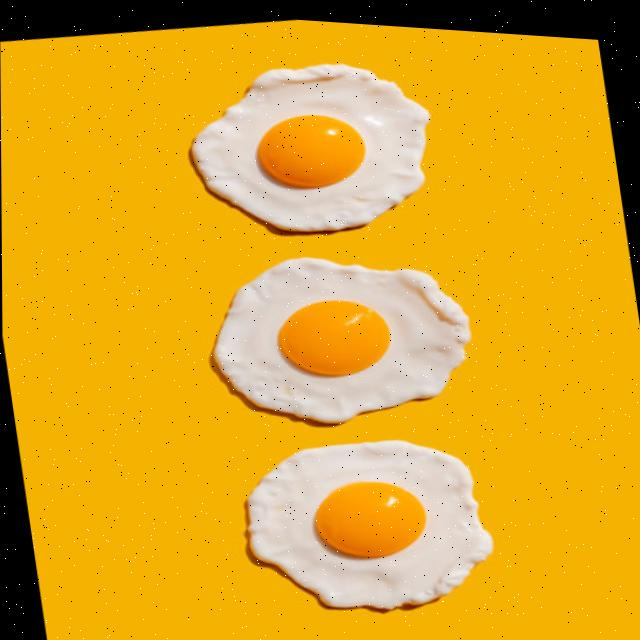Egg: (214, 255, 469, 418), (247, 435, 491, 604), (191, 60, 427, 227)
